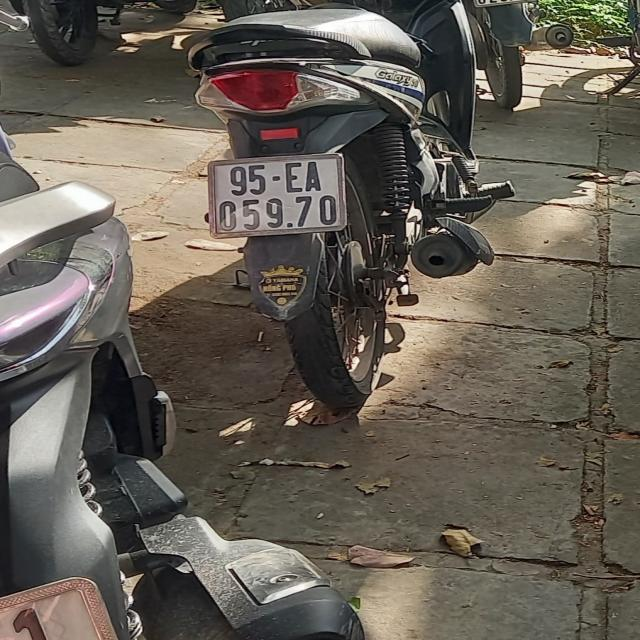0: (319, 195, 338, 226), (219, 200, 236, 230)
5: (248, 164, 266, 195), (243, 200, 261, 231)
7: (296, 195, 312, 227)
9: (264, 197, 283, 228), (230, 167, 247, 196)
A: (304, 160, 321, 192)
E: (284, 162, 302, 193)
